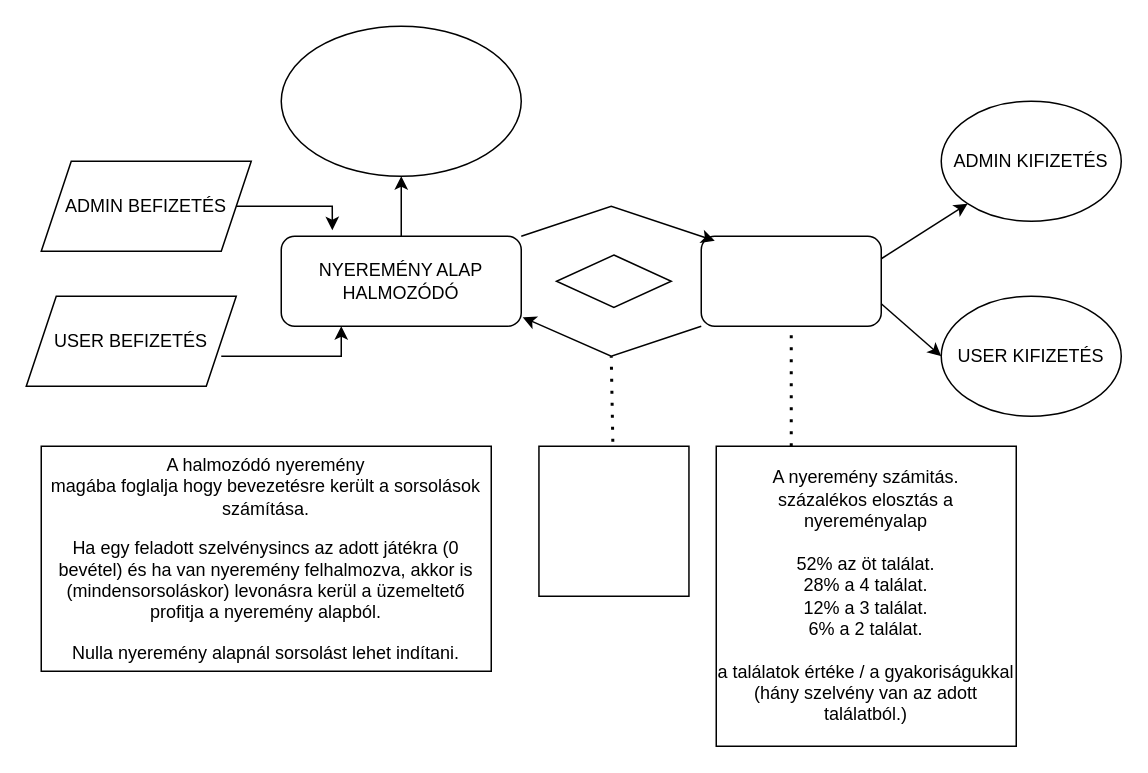
Image size: 1148x773. Some labels were removed from this diagram. Each missing label, with the box of its shape:
A kiosztatlan nyeremény visszakerül a nyereményalapba: (537, 445, 689, 596)
LOTTO KEEPER PROFIT 2% a nyereményalapnak: (280, 25, 521, 176)
NYEREMÉNYEK KISZÁMÍTÁSA: (700, 235, 881, 326)
sorsolás: (555, 254, 671, 308)
